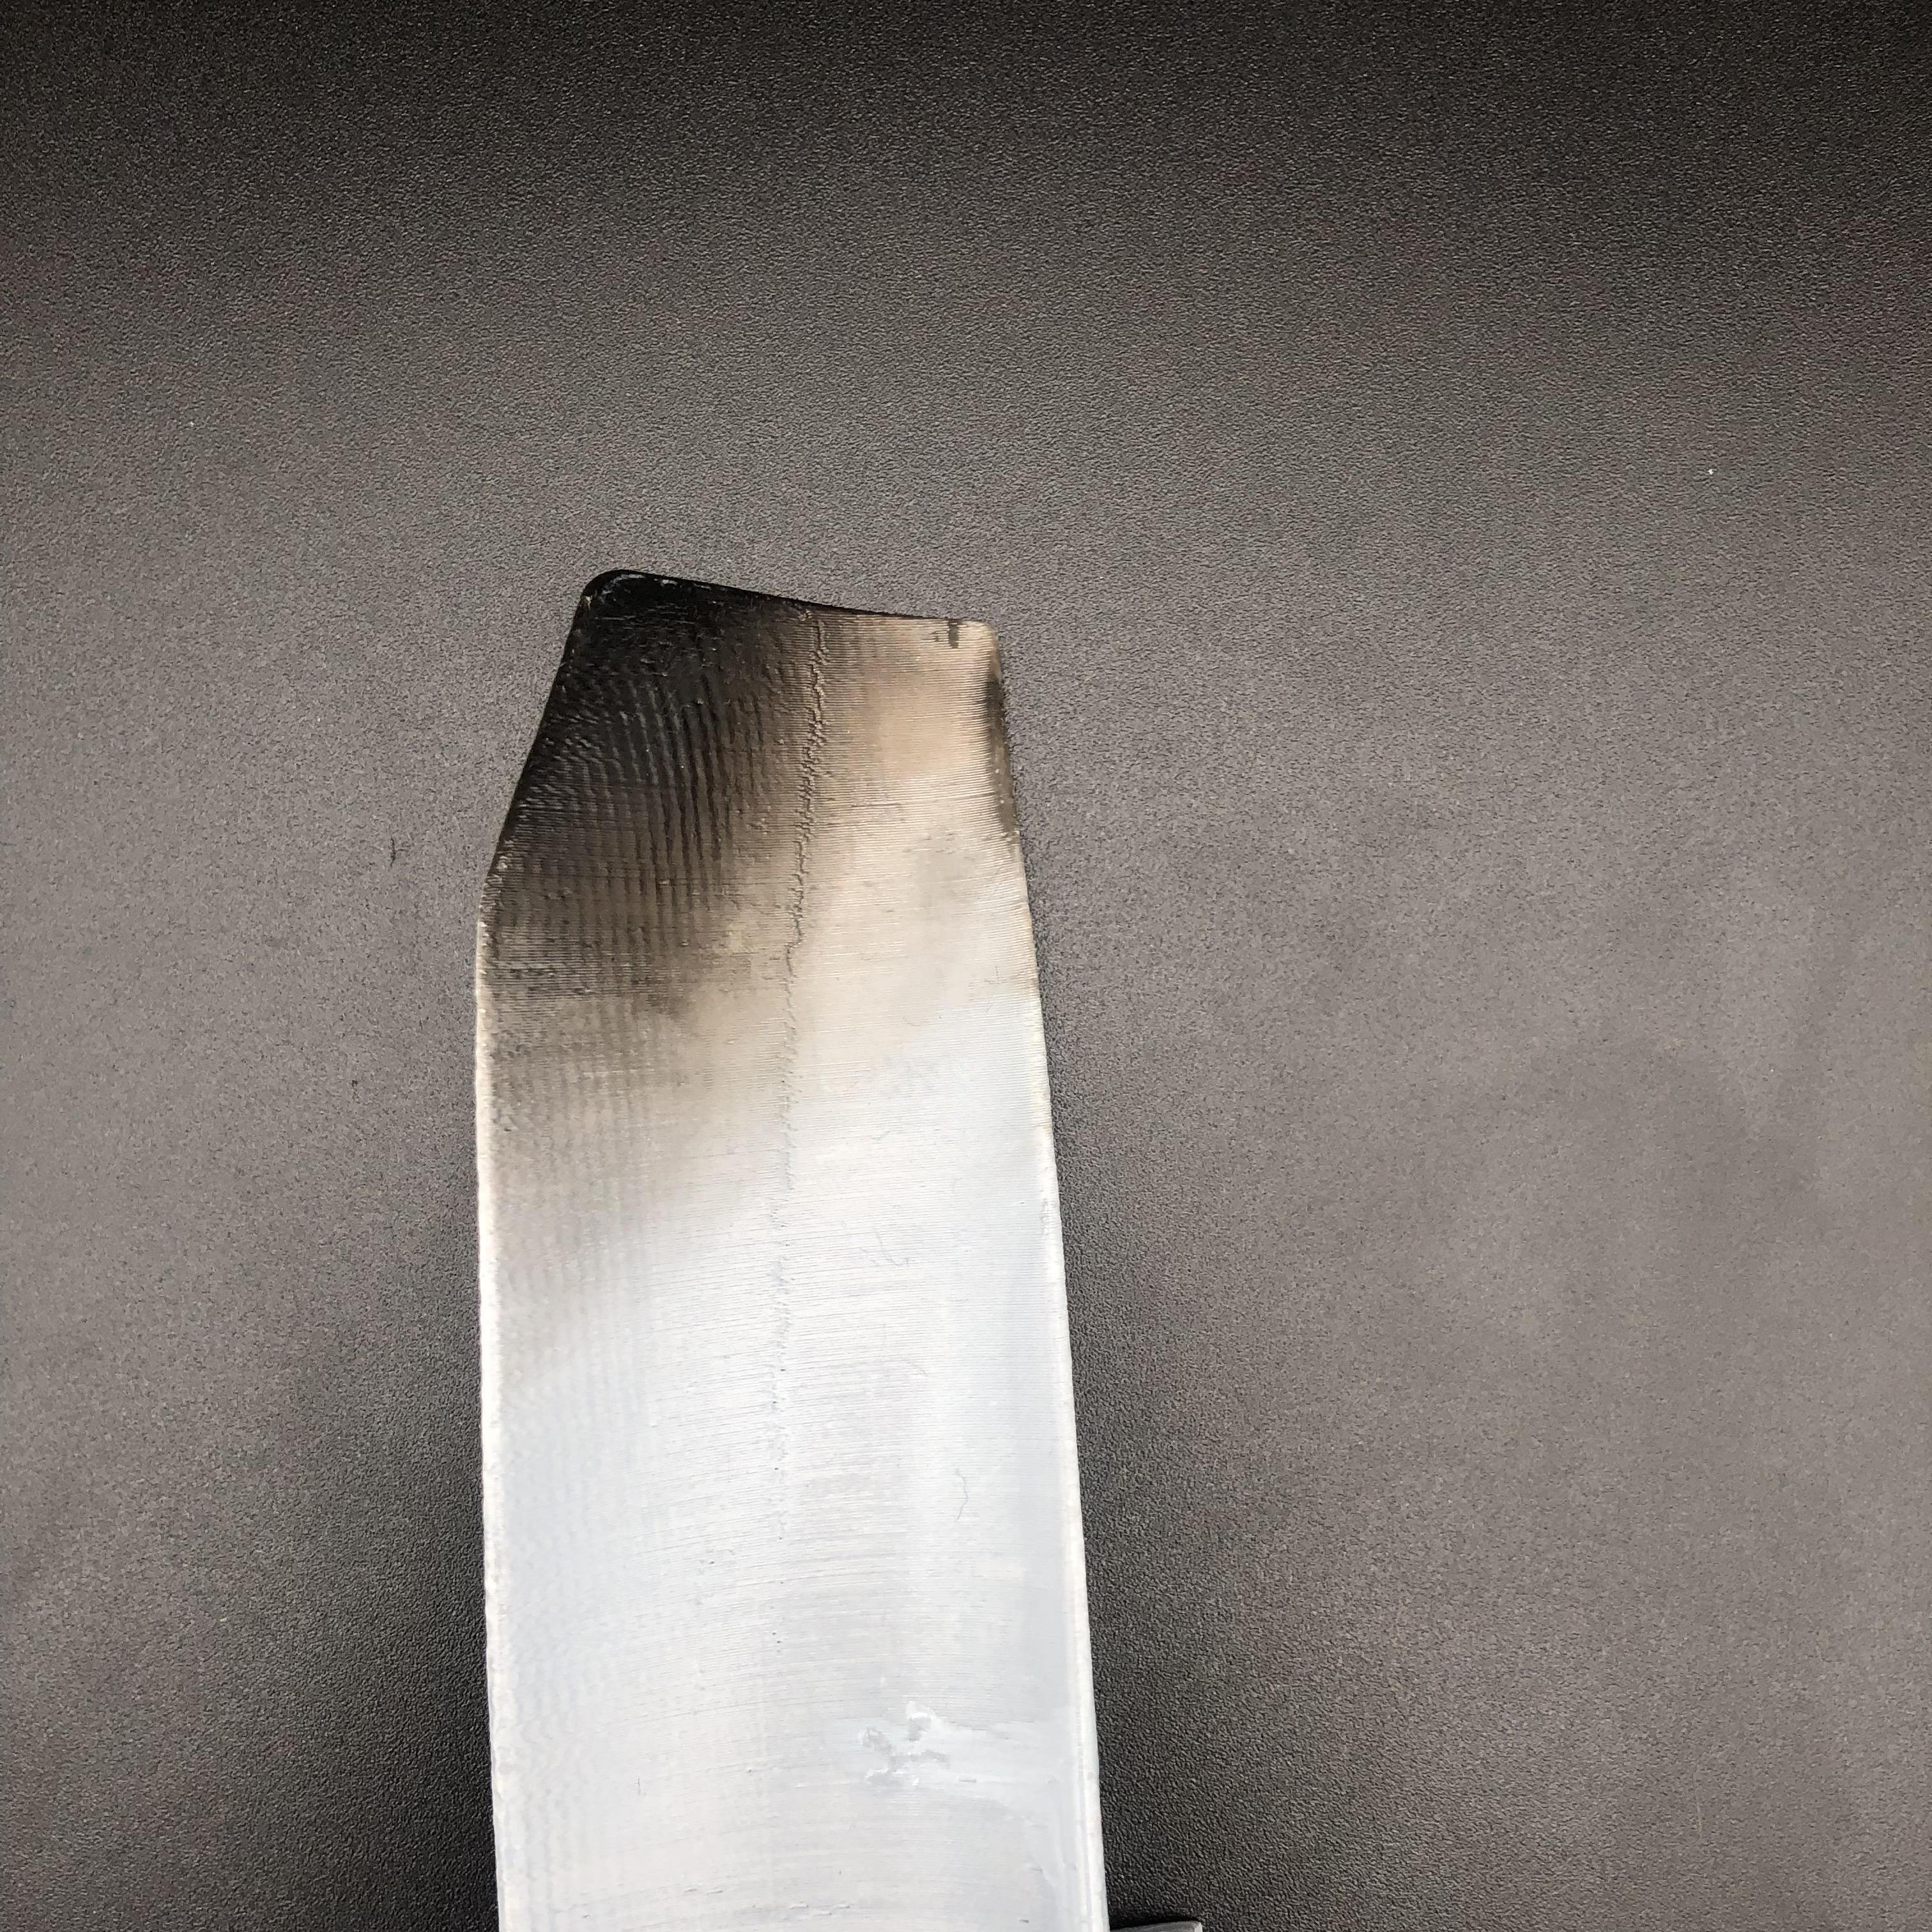ablation: (527, 609, 904, 945)
